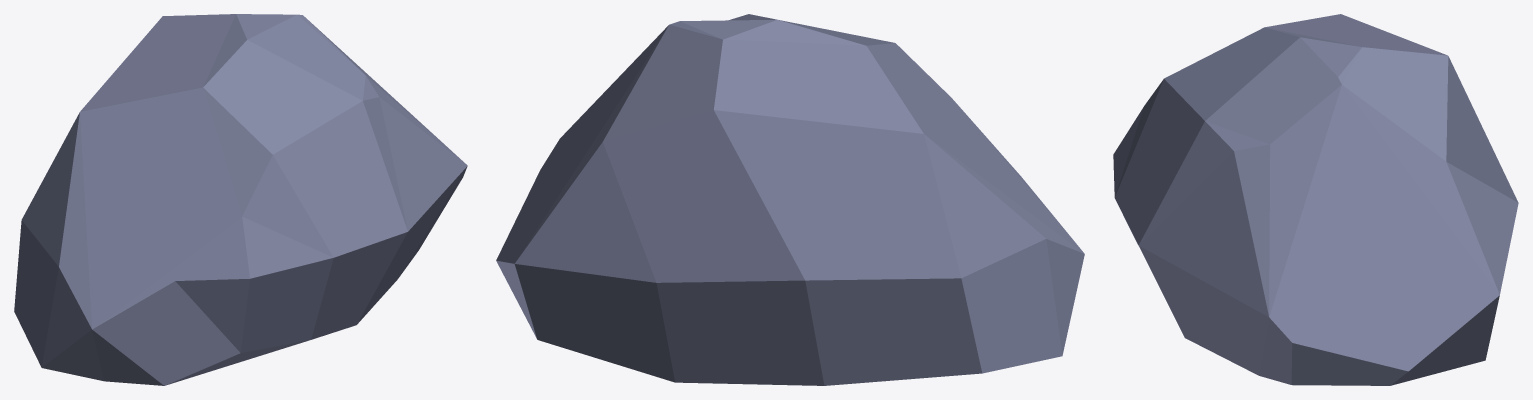
The model's file is Stone_2 Asia.fbx.
3 views of the same model, side by side, from view 1: azimuth 30°, elevation 25°; view 2: azimuth 150°, elevation 25°; view 3: azimuth 270°, elevation 25° (orthographic). The views are drawn at different scales.
Visible parts, largest first — view 1: Stone_2; view 2: Stone_2; view 3: Stone_2.
Boxes of the visible parts, x1,y1,x2,y2 form: Stone_2: [14, 14, 467, 385]; Stone_2: [496, 14, 1084, 385]; Stone_2: [1113, 14, 1518, 385].
Size of the model in its own units: 1.42 by 0.8285 by 1.07.
